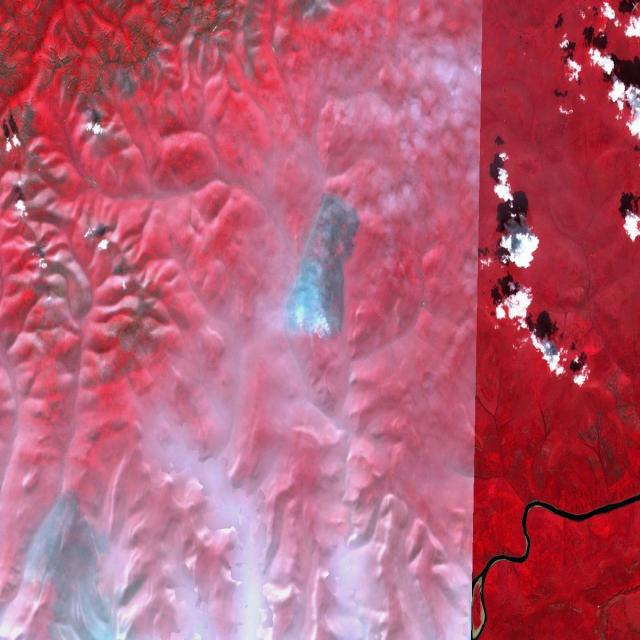fire: (284, 298, 348, 345)
